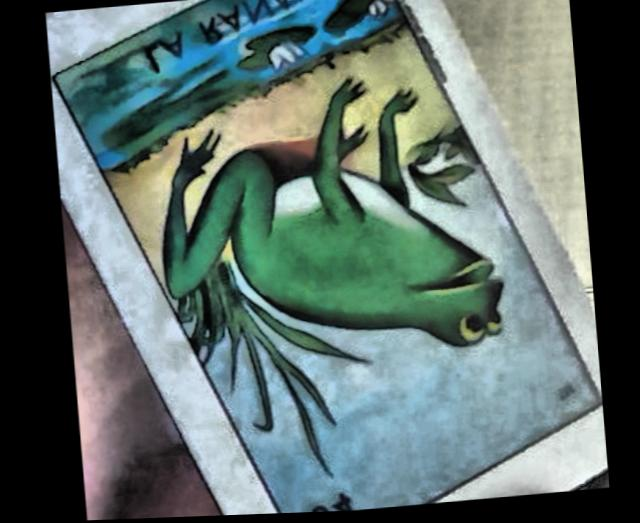La Rana: (54, 0, 598, 515)
